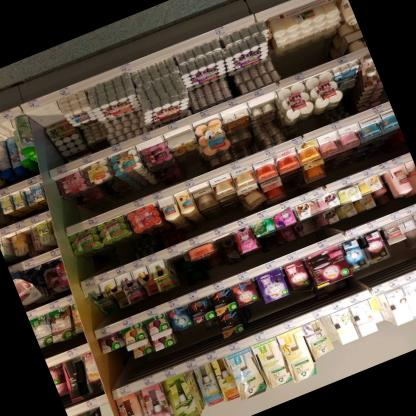empty_space: (211, 233, 247, 279), (165, 253, 196, 295), (80, 401, 134, 416)
